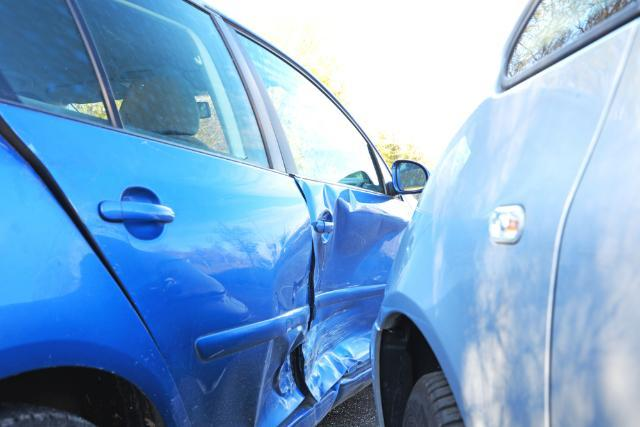dent: (304, 200, 406, 400), (255, 337, 302, 427)
dislocated part: (1, 110, 155, 337)
